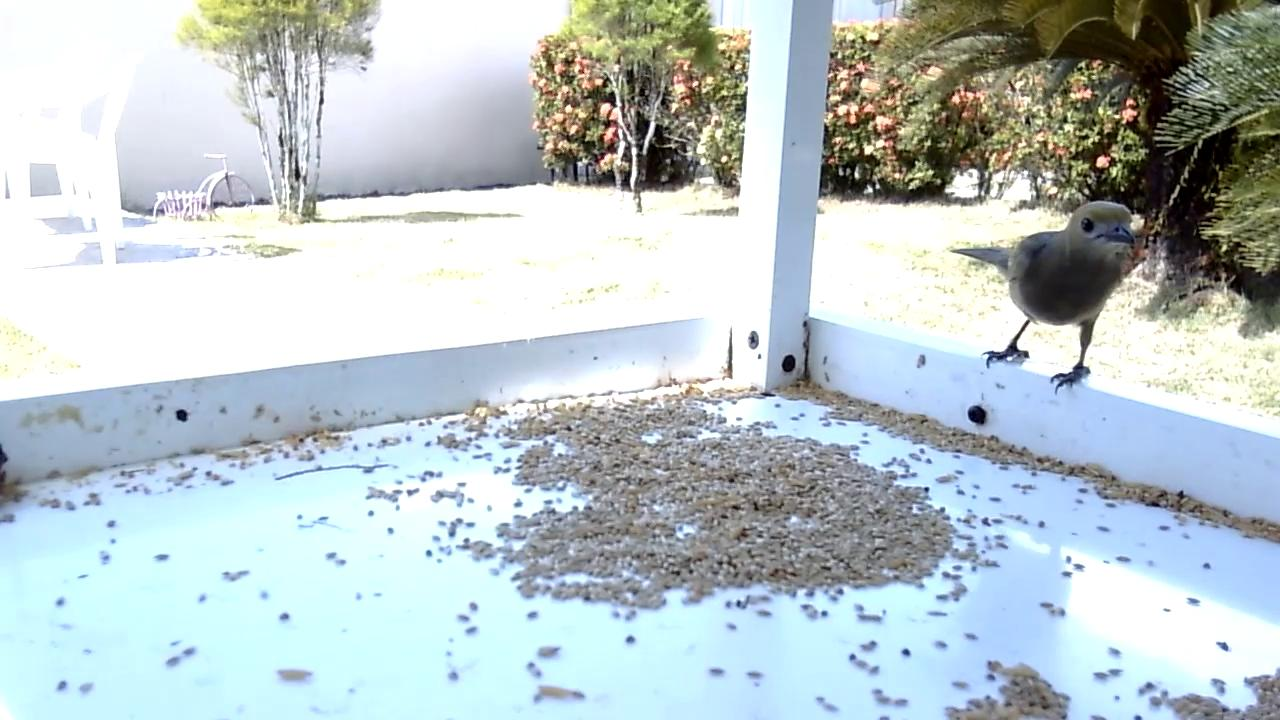sanhaco_do_coqueiro: (950, 200, 1139, 394)
